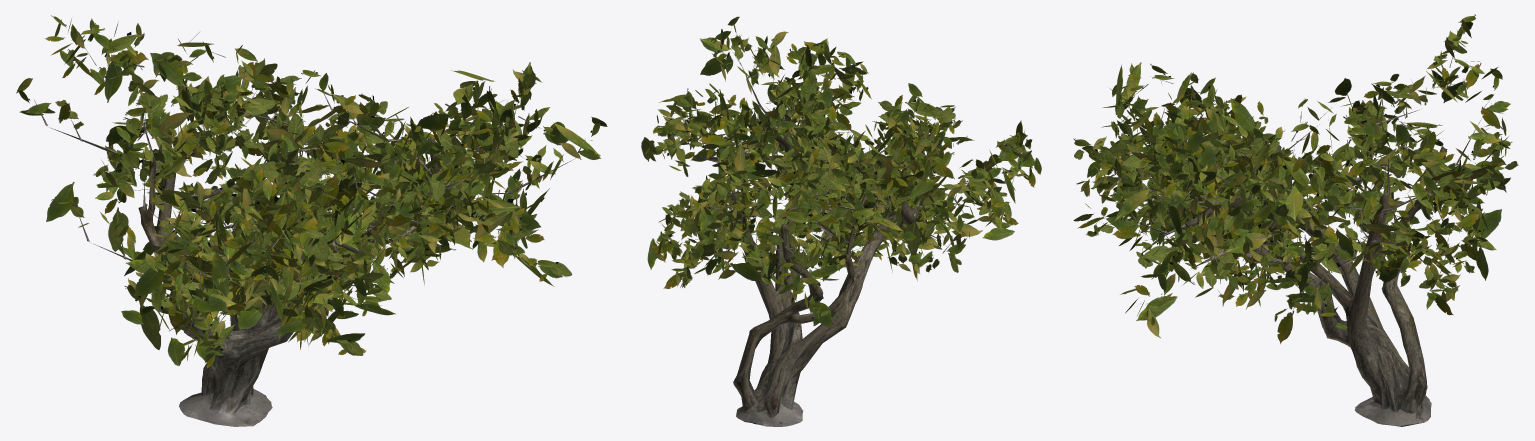
File: coastal-tree.glb
3 renders of one model, left to right at view 1: azimuth 30°, elevation 25°; view 2: azimuth 150°, elevation 25°; view 3: azimuth 270°, elevation 25°, orthographic. The views are drawn at different scales.
Visible parts, largest first — view 1: coastal-leaves-near, coastal-leaves-far, coastal-trunk-near, coastal-trunk-far, coastal-branches-near; view 2: coastal-leaves-near, coastal-leaves-far, coastal-trunk-near, coastal-trunk-far, coastal-branches-near; view 3: coastal-leaves-near, coastal-leaves-far, coastal-trunk-near, coastal-trunk-far, coastal-branches-near.
Boxes of the visible parts, <box> form: coastal-leaves-near: <box>16,15,607,368</box>; coastal-leaves-far: <box>46,28,600,365</box>; coastal-trunk-near: <box>138,119,472,426</box>; coastal-trunk-far: <box>141,130,471,426</box>; coastal-branches-near: <box>34,49,585,348</box>; coastal-leaves-near: <box>645,16,1041,319</box>; coastal-leaves-far: <box>641,31,1034,327</box>; coastal-trunk-near: <box>720,115,920,426</box>; coastal-trunk-far: <box>731,116,918,426</box>; coastal-branches-near: <box>660,35,1023,311</box>; coastal-leaves-near: <box>1073,14,1518,330</box>; coastal-leaves-far: <box>1077,30,1508,343</box>; coastal-trunk-near: <box>1149,107,1446,426</box>; coastal-trunk-far: <box>1187,148,1447,426</box>; coastal-branches-near: <box>1090,49,1497,310</box>.
Size of the model in its own units: 4.01 by 3.45 by 4.1.
3 materials, 3 textured.
